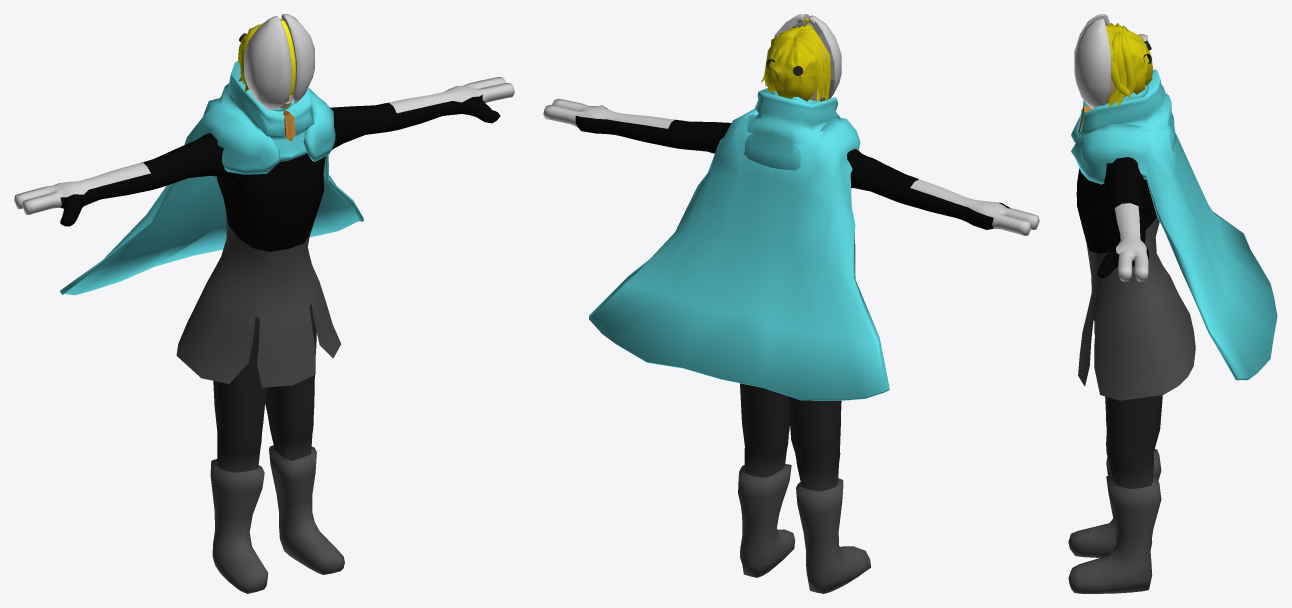
File: Character_One_09.fbx
The picture shows the model from 3 angles, left to right: view 1: azimuth 30°, elevation 25°; view 2: azimuth 150°, elevation 25°; view 3: azimuth 270°, elevation 25°; orthographic projection.
Visible parts, largest first — view 1: base.001; view 2: base.001; view 3: base.001.
Boxes of the visible parts, <box> form: base.001: <box>14,14,514,593</box>; base.001: <box>543,14,1039,593</box>; base.001: <box>1068,14,1277,593</box>.
Size of the model in its own units: 156 by 170 by 58.23.
